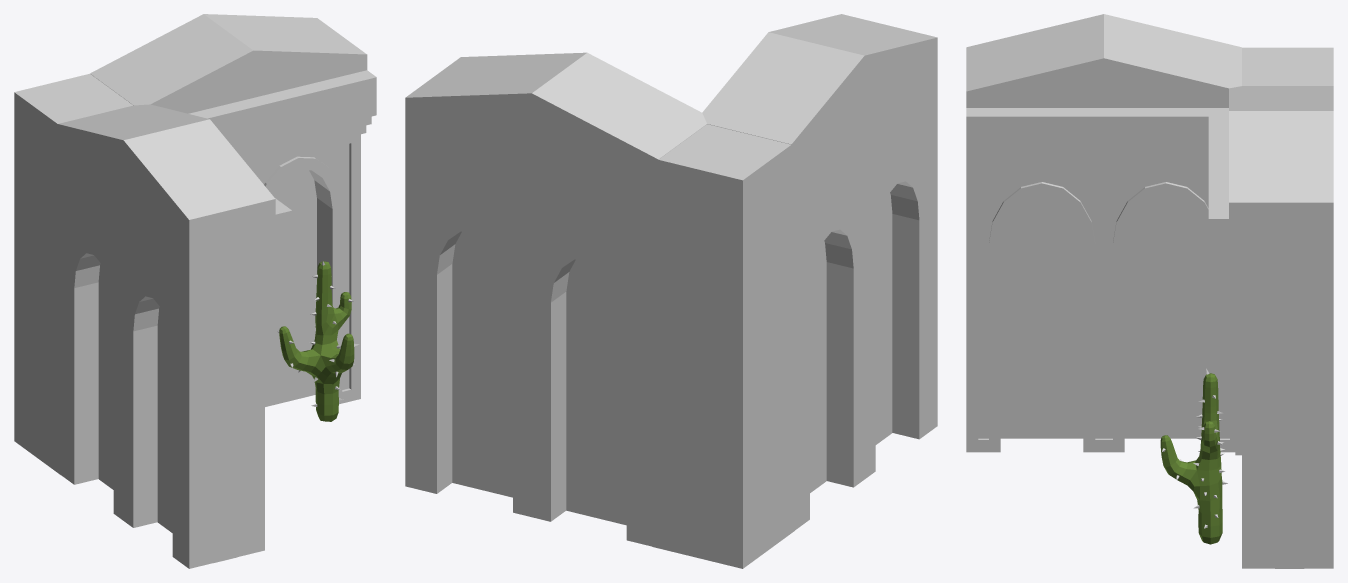
The model's file is tileLwall_cactus.fbx.
3 views of the same model, side by side, from view 1: azimuth 30°, elevation 25°; view 2: azimuth 150°, elevation 25°; view 3: azimuth 270°, elevation 25° (orthographic). The views are drawn at different scales.
Visible parts, largest first — view 1: Cube.004, Cube.006, Cube.003, Cube.009, Cube.008, Cube.002, Cube.001, Cube.007, Plane; view 2: Cube.009, Cube.005, Cube.003, Cube.004, Cube.001, Cube.006, Cube.008; view 3: Cube.008, Cube.006, Cube.007, Cube.003, Cube.002, Cube.005, Cube.001, Cube.009, Plane.
Part boxes in pixels (<box>): Cube.004: <box>61,205,213,568</box>; Cube.006: <box>58,104,292,298</box>; Cube.003: <box>90,14,376,162</box>; Cube.009: <box>14,73,132,474</box>; Cube.008: <box>98,263,237,563</box>; Cube.002: <box>246,134,360,404</box>; Cube.001: <box>265,170,316,406</box>; Cube.007: <box>237,280,264,556</box>; Plane: <box>279,261,354,421</box>; Cube.009: <box>652,124,794,568</box>; Cube.005: <box>405,186,658,547</box>; Cube.003: <box>405,52,706,245</box>; Cube.004: <box>795,126,937,530</box>; Cube.001: <box>452,231,626,525</box>; Cube.006: <box>702,14,937,229</box>; Cube.008: <box>810,193,892,492</box>; Cube.008: <box>1000,196,1207,438</box>; Cube.006: <box>966,14,1241,173</box>; Cube.007: <box>966,173,1235,452</box>; Cube.003: <box>1208,86,1333,285</box>; Cube.002: <box>1242,285,1274,568</box>; Cube.005: <box>1304,285,1333,568</box>; Cube.001: <box>1275,285,1304,568</box>; Cube.009: <box>1235,47,1333,455</box>; Plane: <box>1160,373,1222,544</box>.
Bounding box in the file's own units: 500 × 600 × 500.
